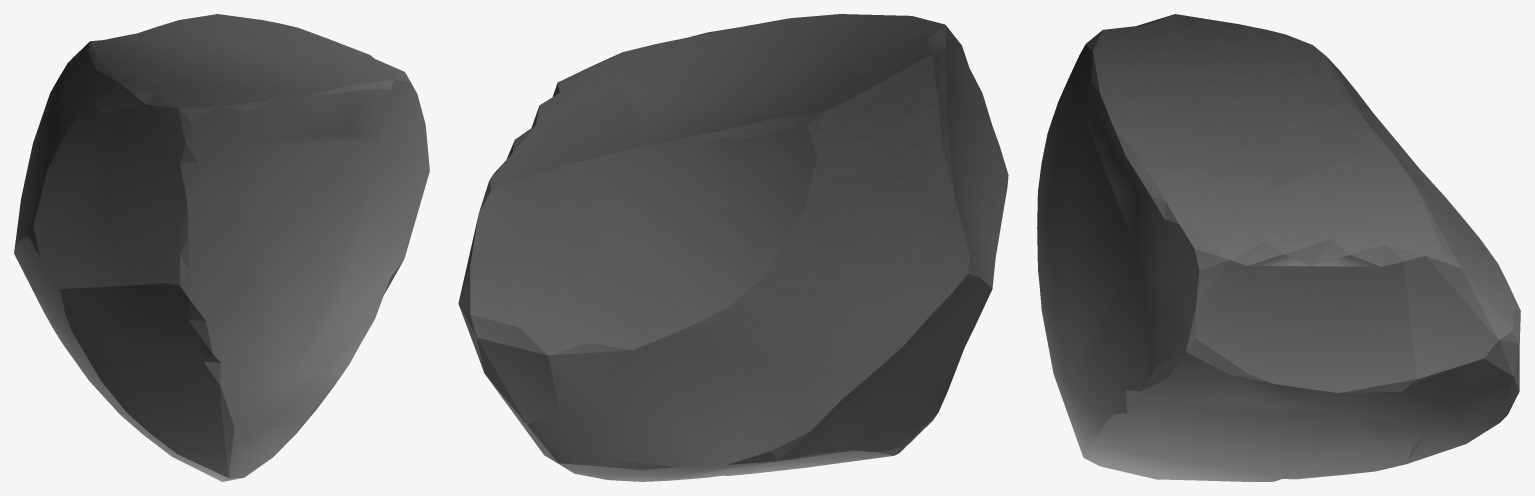
The model's file is Rock_01.fbx.
3 renders of one model, left to right at view 1: azimuth 30°, elevation 25°; view 2: azimuth 150°, elevation 25°; view 3: azimuth 270°, elevation 25°, orthographic. The views are drawn at different scales.
Parts seen in each view (by area): view 1: Rock_01; view 2: Rock_01; view 3: Rock_01.
Part boxes in pixels (x1,y1,x2,y2): Rock_01: (14,14,429,481); Rock_01: (458,14,1008,481); Rock_01: (1037,14,1520,481).
Size of the model in its own units: 17.07 by 17.02 by 17.96.
